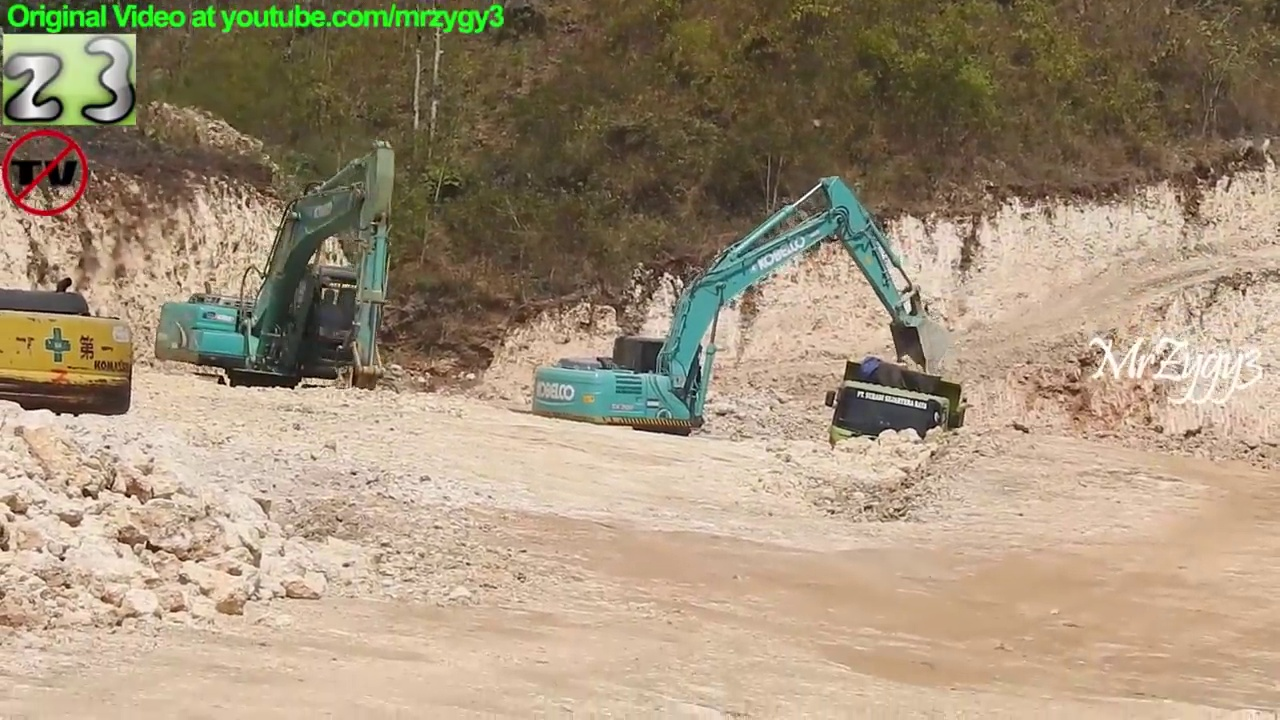excavator: (524, 169, 948, 474), (150, 133, 409, 437), (820, 350, 975, 495), (1, 273, 138, 426)
